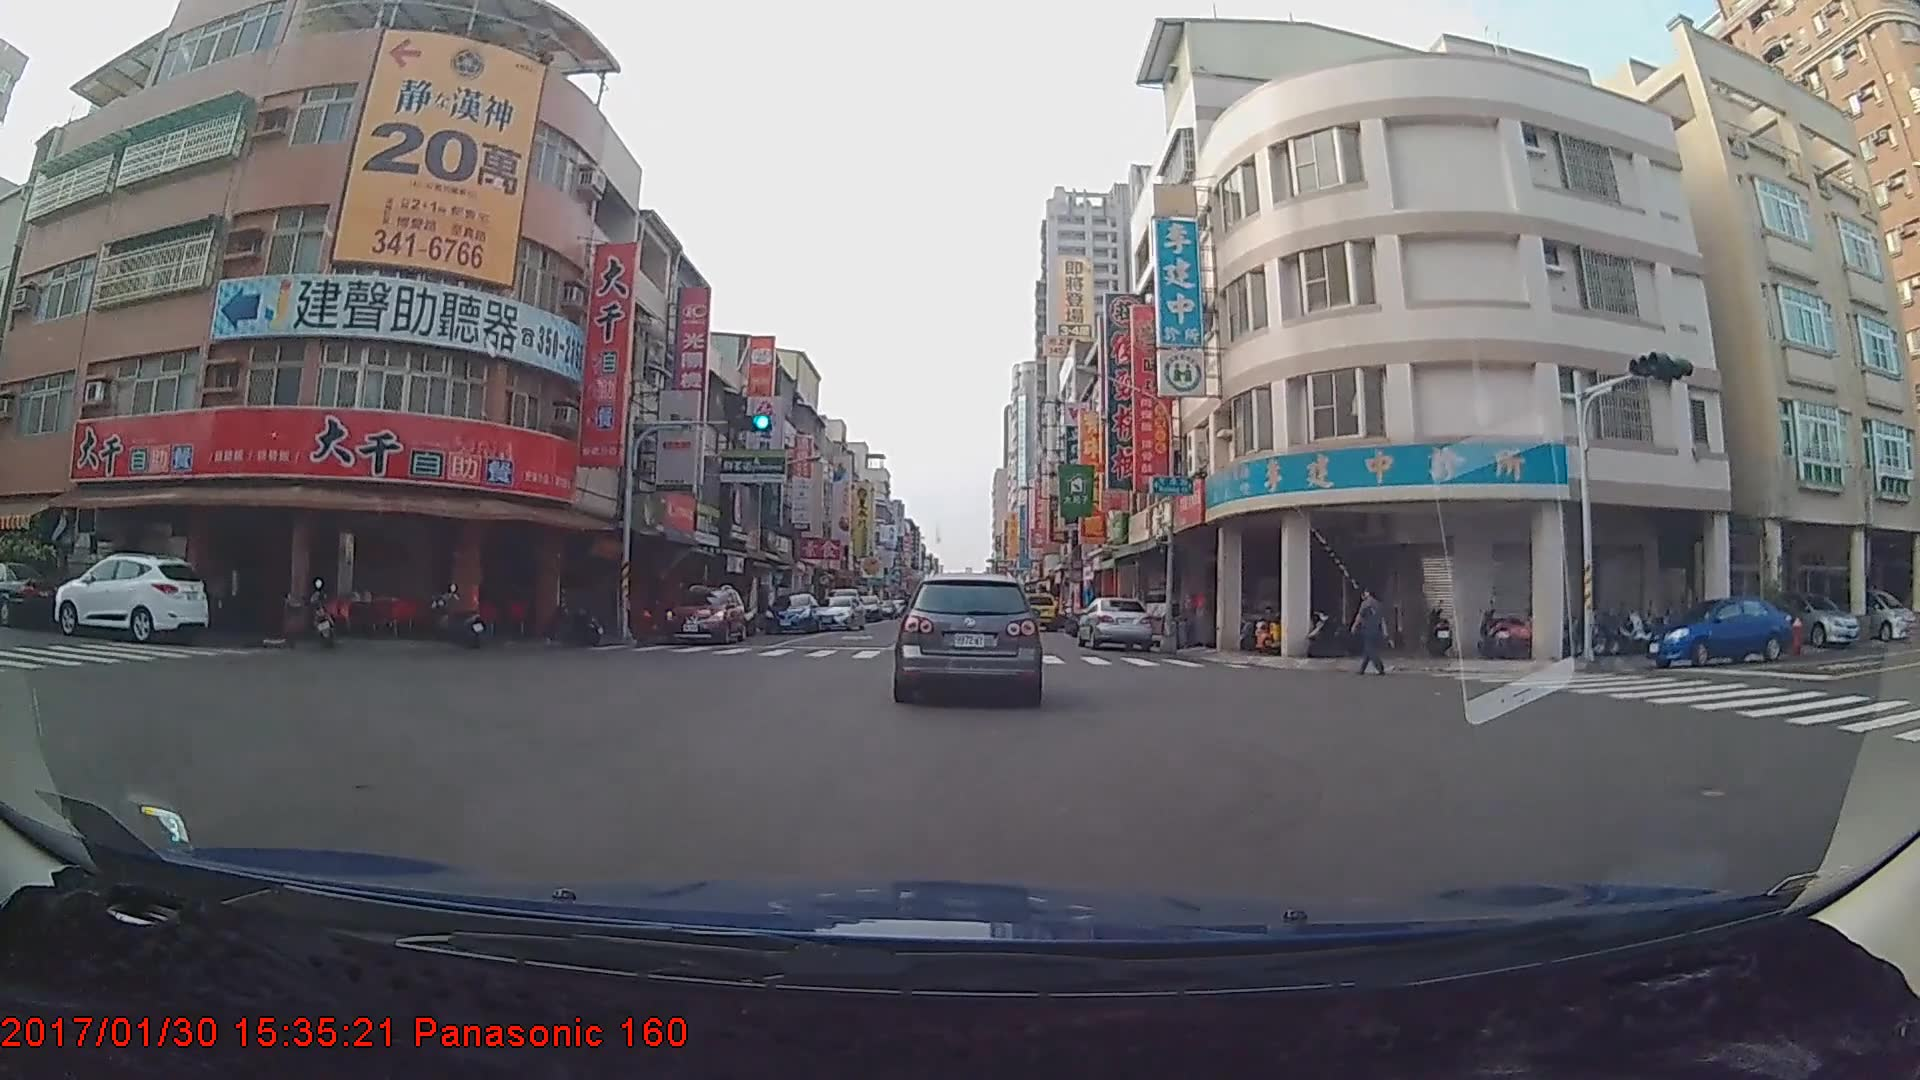pedestrian: (1352, 590, 1389, 681)
vehicle: (892, 572, 1043, 706), (51, 552, 206, 645), (1645, 596, 1793, 671), (1748, 586, 1862, 648), (1815, 586, 1916, 639), (659, 586, 746, 645), (1072, 595, 1152, 654), (0, 561, 59, 629), (761, 588, 821, 632), (809, 592, 866, 629), (1015, 592, 1059, 631)
